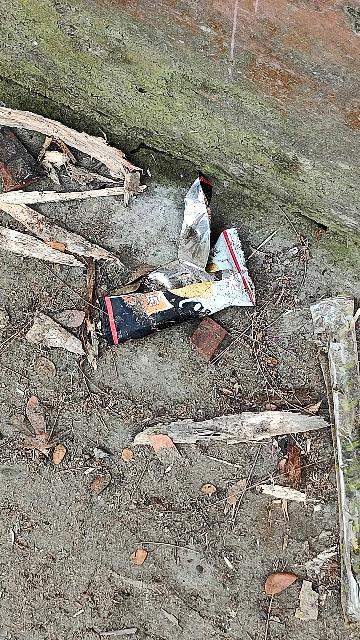packet: (89, 193, 272, 347)
